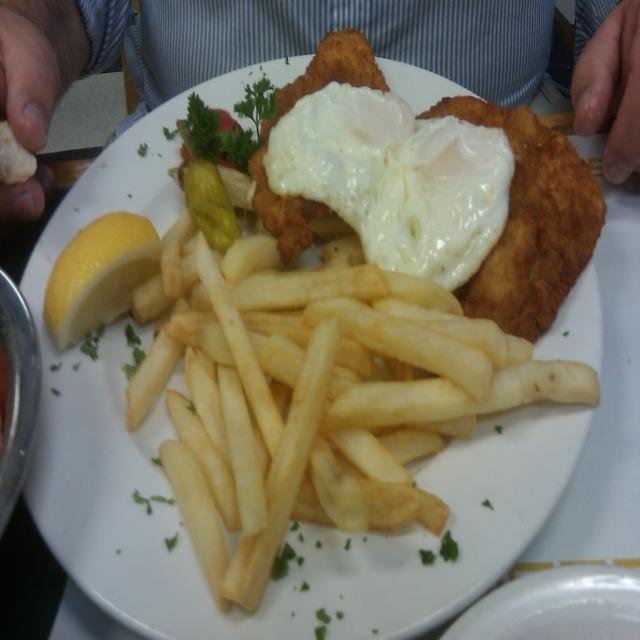French fries: (123, 152, 603, 618)
